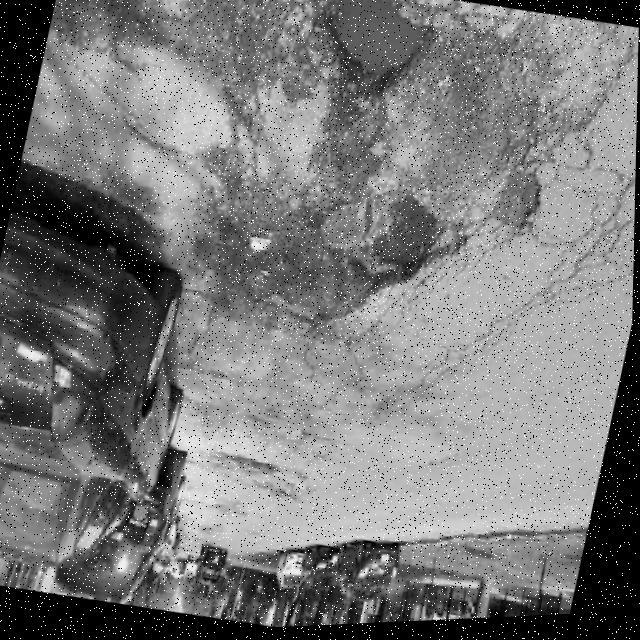pothole: (311, 0, 444, 115), (344, 180, 455, 310), (484, 175, 546, 247), (210, 451, 280, 485)
